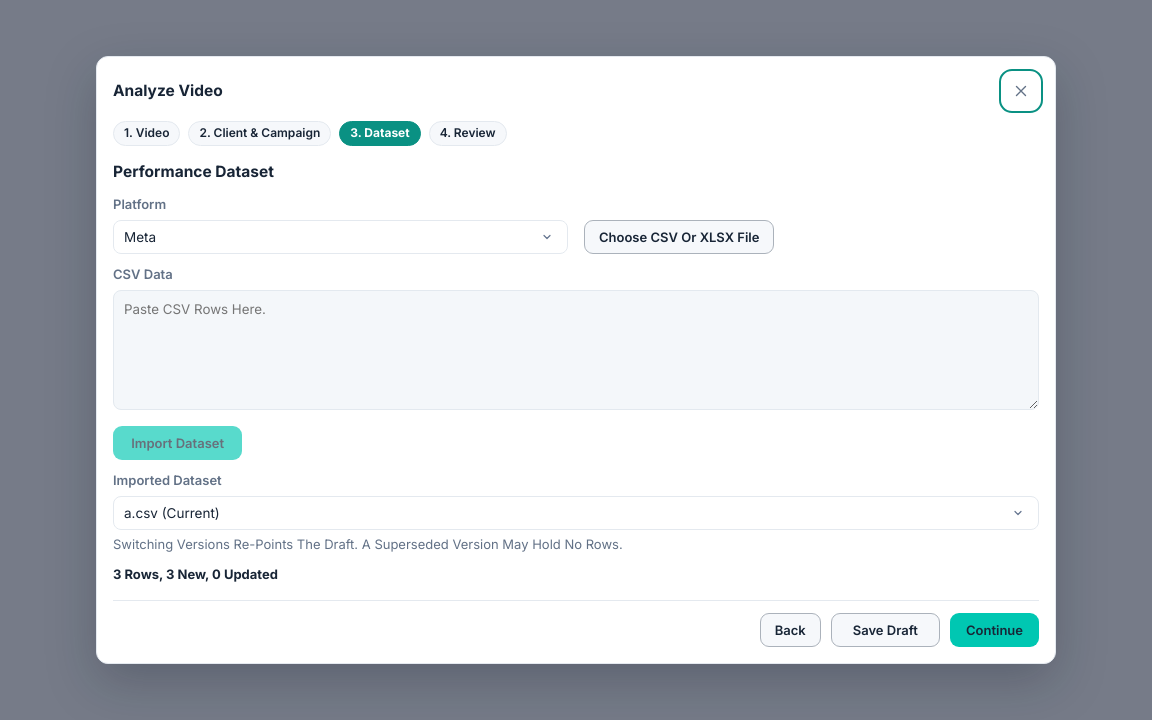
VideoUpload guided panel › switches back to an already-imported dataset version
This screenshot has width=1152, height=720.
Select "b.csv" in the dropdown labelled "Imported Dataset" at (576, 513), box [113, 496, 1039, 530]
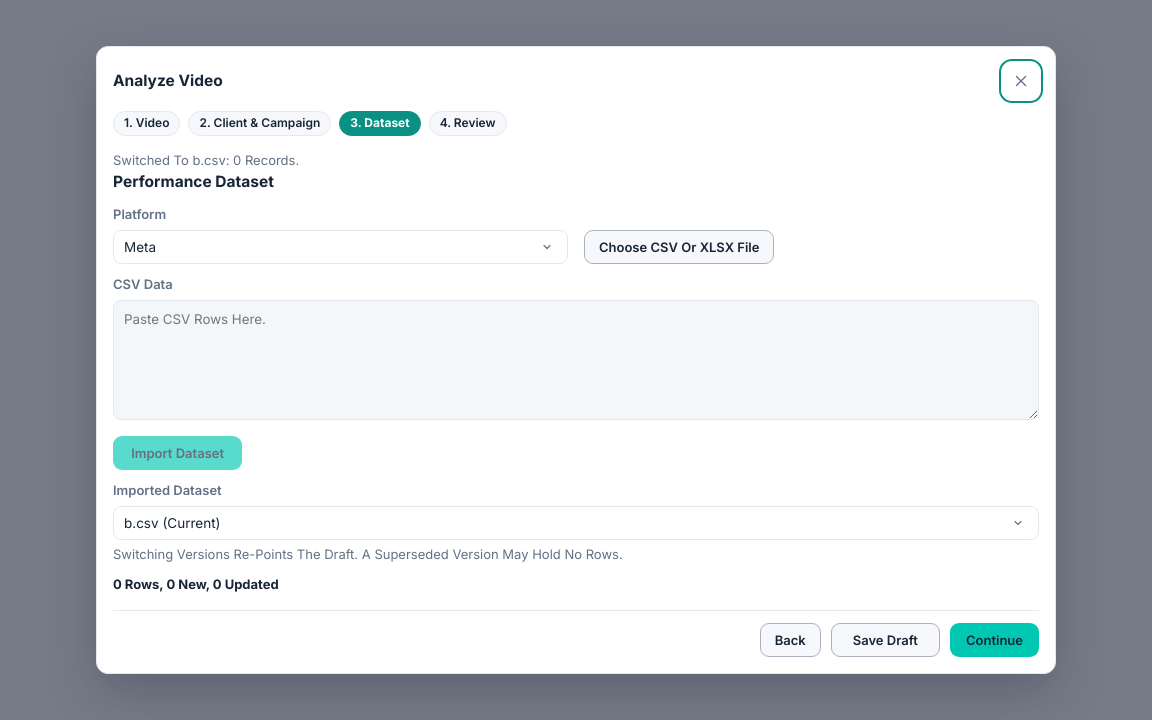
Now the text "Switched To b.csv: 0 Records." is shown, box [113, 152, 299, 168]
